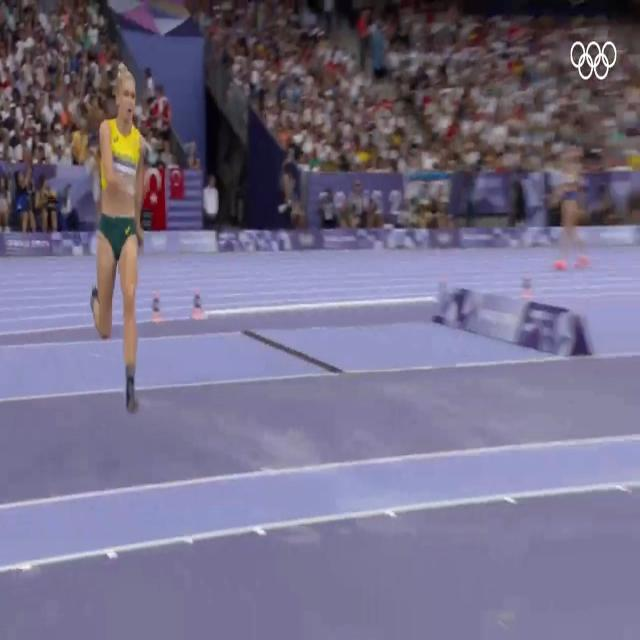run: (91, 70, 153, 413)
